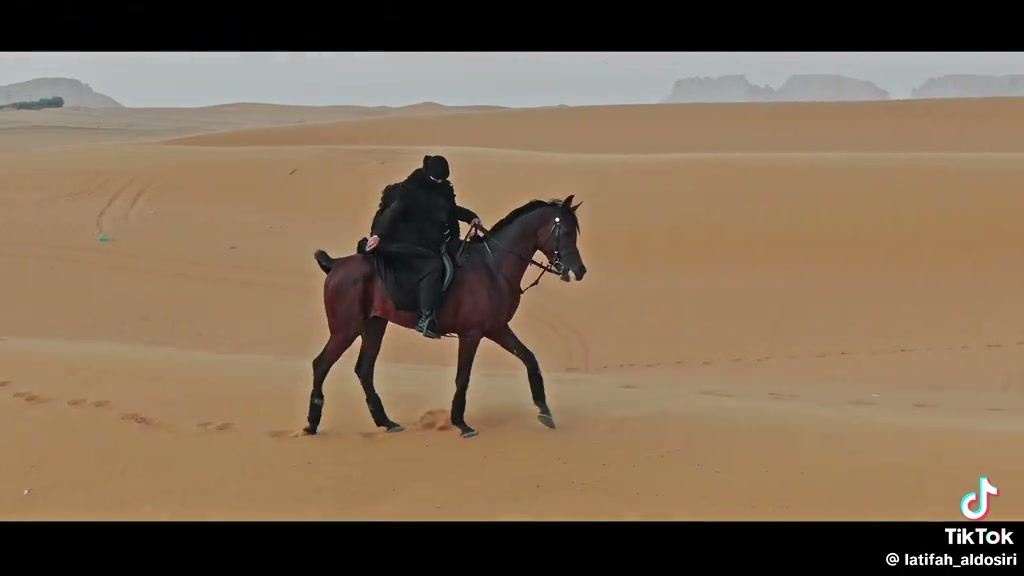animal_foot_print: (12, 391, 49, 403), (120, 412, 154, 425), (195, 421, 235, 432), (66, 398, 109, 407)
